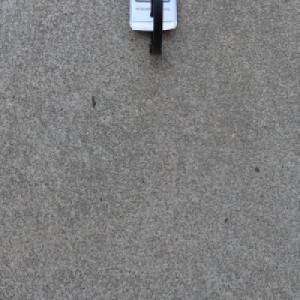LuggageTag: (127, 0, 178, 58)
